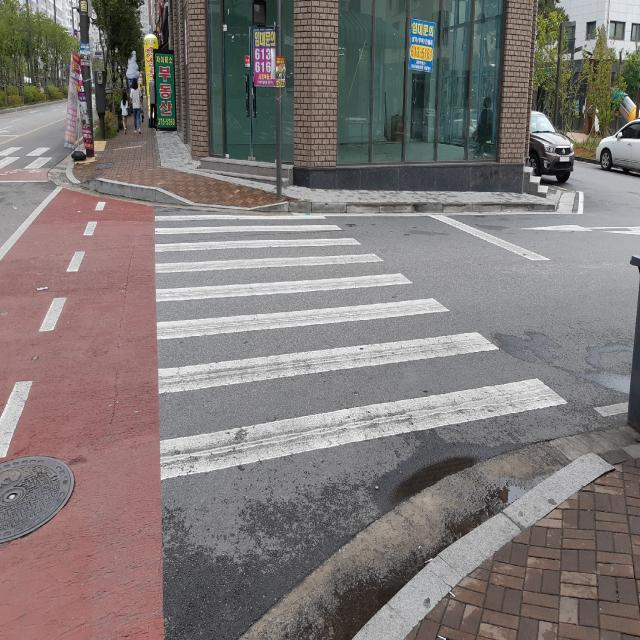횡단보도: (150, 207, 570, 488)
